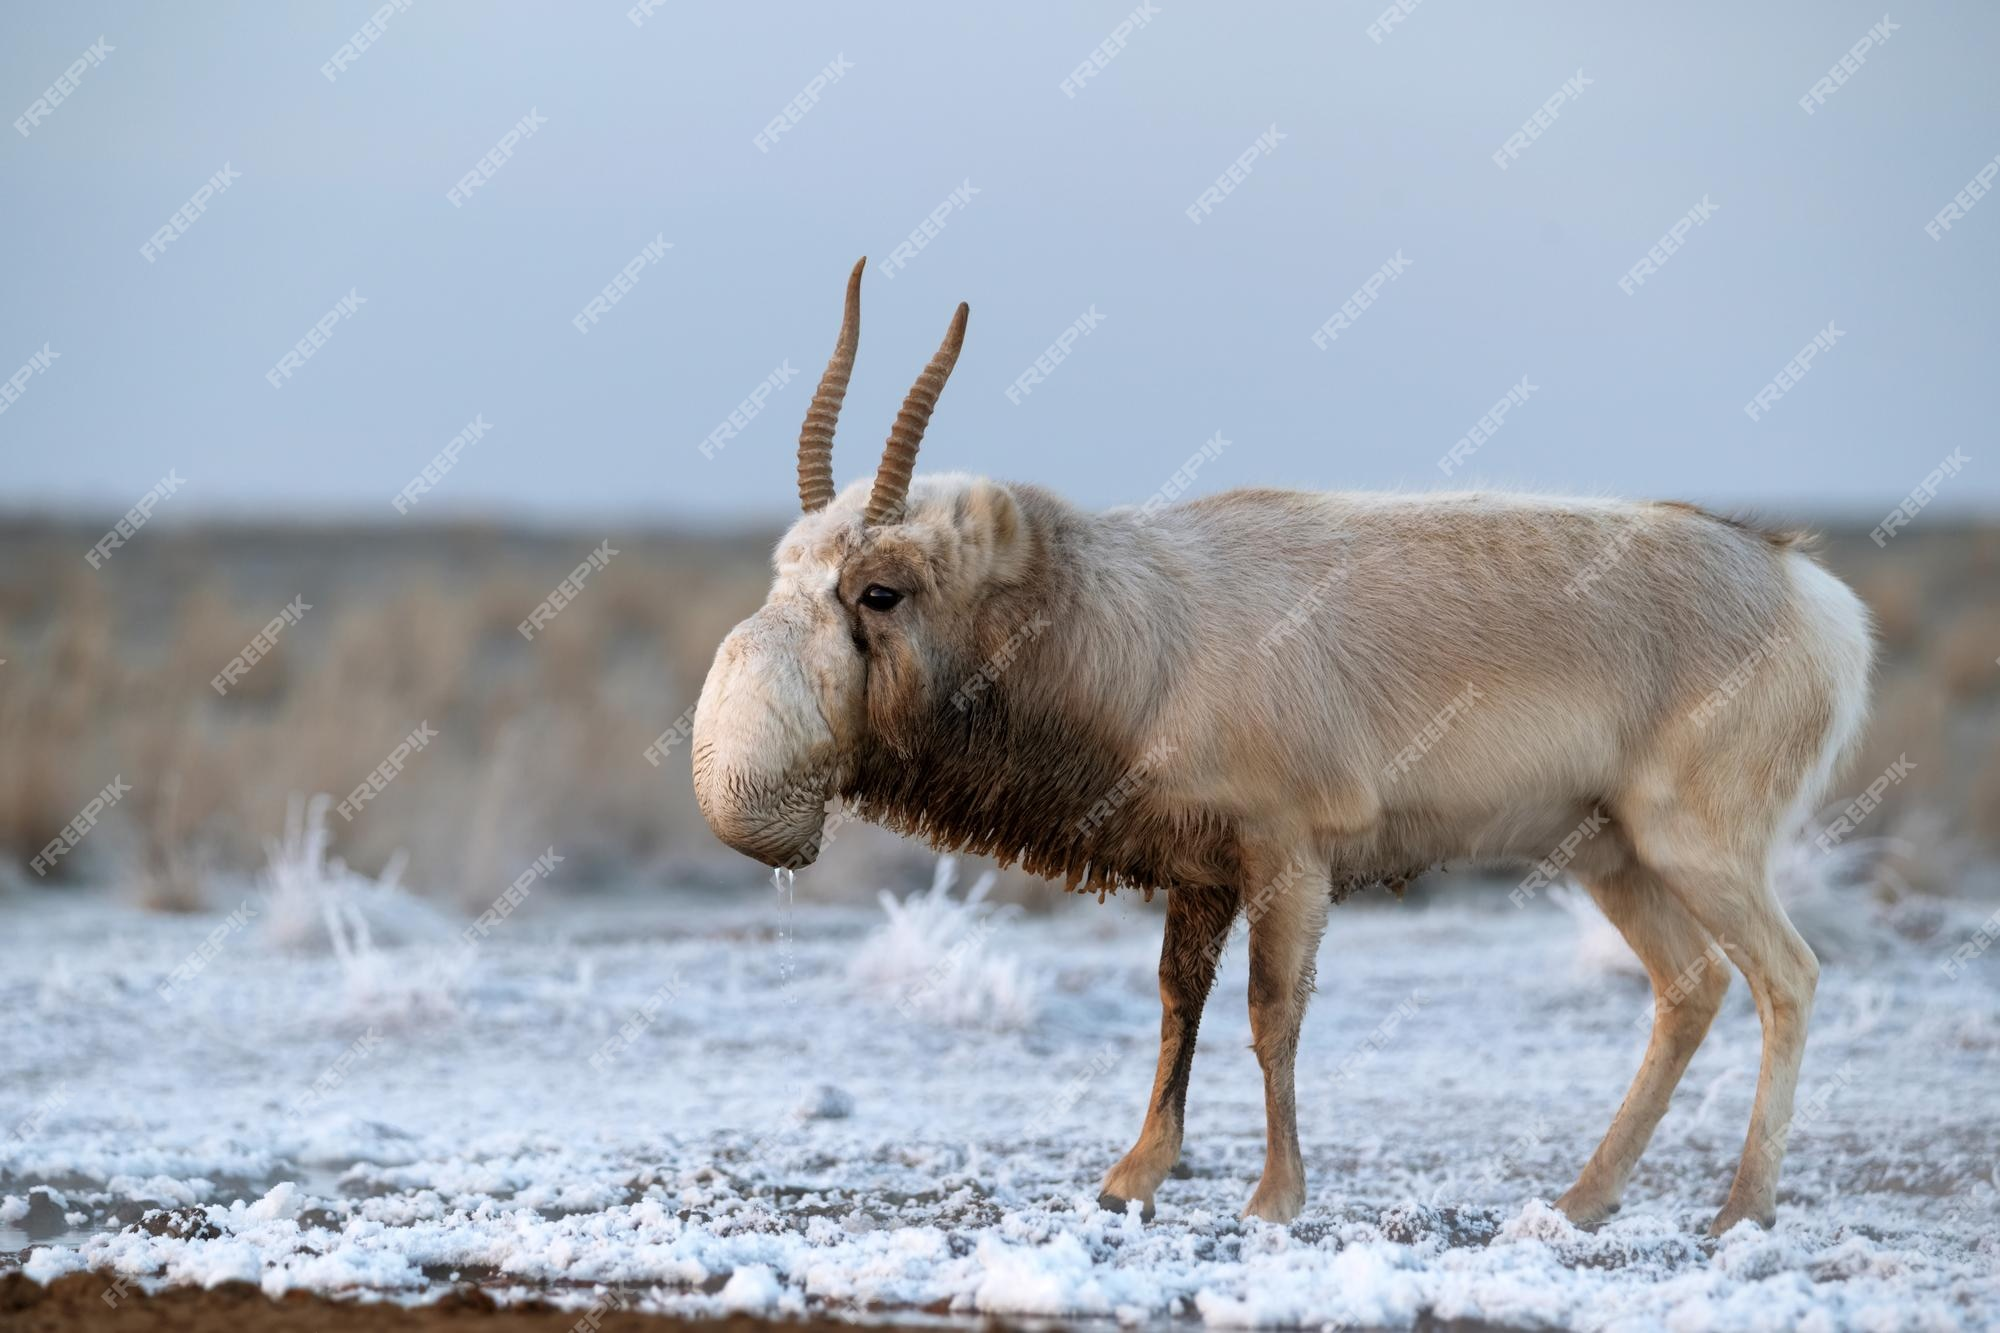saiga: (677, 248, 1872, 1333)
